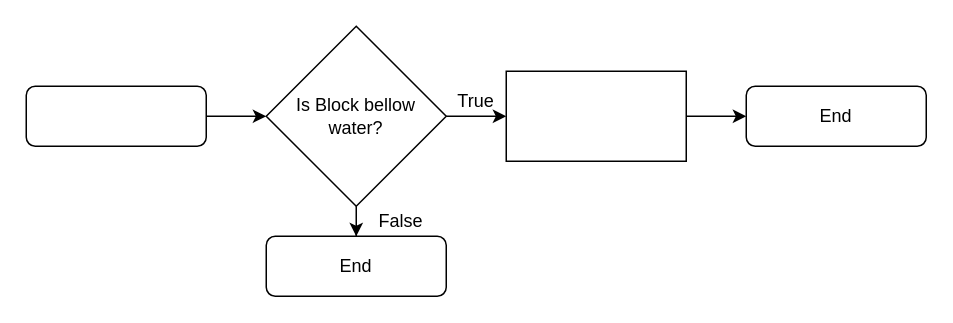
Some shapes in this 953 by 323 pixel diagram are drawn without their labels. Here are the shapes that lost their labels. From the top down, the centre of each, then its label:
[115,115]: On Travel
[595,115]: Set block bellow player to be ice
